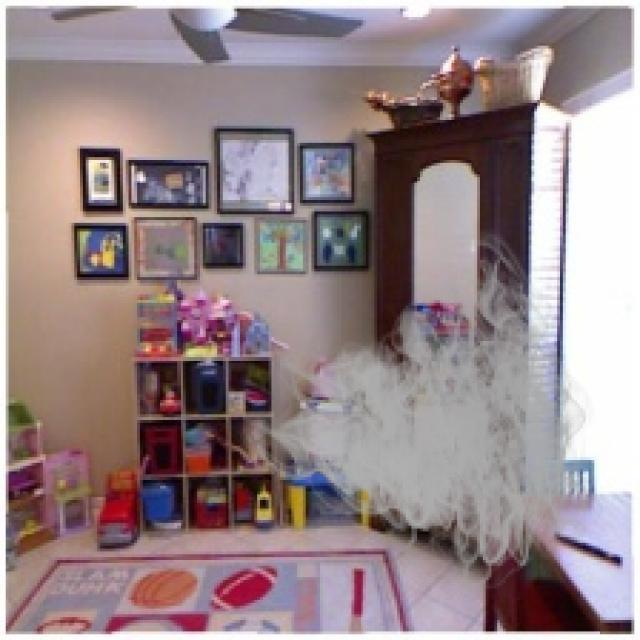Smoke: (243, 225, 612, 600)
